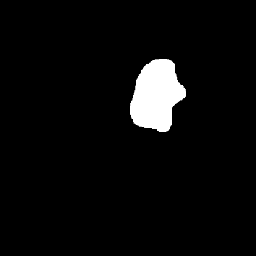mass: (134, 61, 176, 125)
